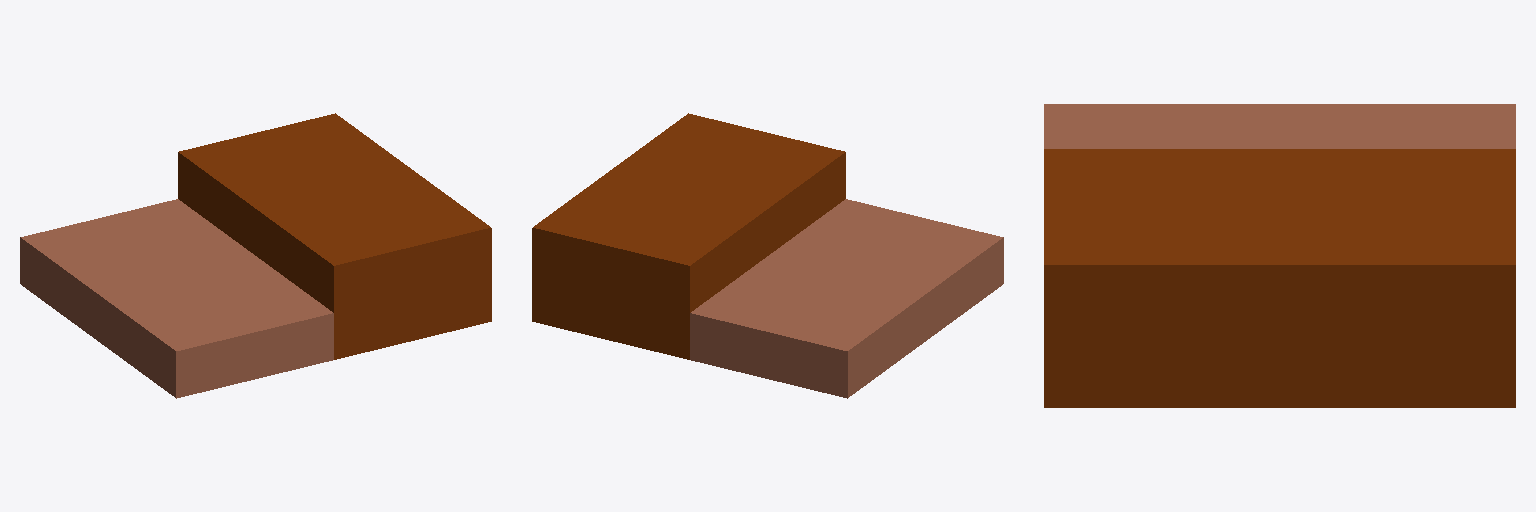
The robot description file, URDF, robot "stair":
<?xml version="0.0" ?>
<robot name="stair">
  <link name="baseLink">
    <contact>
      <lateral_friction value="1.0"/>
      <rolling_friction value="0.0"/>
      <contact_cfm value="0.0"/>
      <contact_erp value="1.0"/>
    </contact>
    <inertial>
      <origin rpy="0 0 0" xyz="0.15 0 0.1"/>
       <mass value="1.0"/>
       <inertia ixx="1" ixy="0" ixz="0" iyy="1" iyz="0" izz="1"/>
    </inertial>
    <visual>
      <origin rpy="0 0 0" xyz="0.175 0 0.05"/>
      <geometry>
        <box size="0.35 0.6 0.1"/>
      </geometry>
       <material name="brown">
           <color rgba="0.68 0.45 0.35 1.0"/>
      </material>
    </visual>
    <!--<collision>-->
      <!--<origin rpy="0 0 0" xyz="0.175 0 0.05"/>-->
      <!--<geometry>-->
        <!--<box size="0.35 0.6 0.1"/>-->
      <!--</geometry>-->
    <!--</collision>-->

  </link>
  <joint name="j0" type="fixed">
      <origin rpy="0 0 0" xyz="0.35 0 0."/>
      <axis rpy="0 0 0" xyz="0 0 1"/>
      <parent link="baseLink"/>
      <child link="secondLink"/>
  </joint>
  <link name="secondLink">
    <contact>
      <lateral_friction value="1.0"/>
      <rolling_friction value="0.0"/>
      <contact_cfm value="0.0"/>
      <contact_erp value="1.0"/>
    </contact>
    <inertial>
      <origin rpy="0 0 0" xyz="0.175 0 0.1"/>
       <mass value="1.0"/>
       <inertia ixx="1" ixy="0" ixz="0" iyy="1" iyz="0" izz="1"/>
    </inertial>
    <visual>
      <origin rpy="0 0 0" xyz="0.175 0 0.1"/>
      <geometry>
        <box size="0.35 0.6 0.2"/>
      </geometry>
       <material name="brown2">
           <color rgba="0.545 0.27 0.074 1.0"/>
      </material>
    </visual>
    <!--<collision>-->
      <!--<origin rpy="0 0 0" xyz="0.175 0 0.1"/>-->
      <!--<geometry>-->
        <!--<box size="0.35 0.6 0.2"/>-->
      <!--</geometry>-->
    <!--</collision>-->
  </link>
</robot>

--- Render facts (derived) ---
Views: 3 orthographic renders of the robot side by side, from view 1: azimuth 30°, elevation 25°; view 2: azimuth 150°, elevation 25°; view 3: azimuth 270°, elevation 25°.
Model stair with 2 links and 1 joints (1 fixed), rooted at baseLink, posed all joints at 0.
Links seen in each view (by area): view 1: secondLink, baseLink; view 2: secondLink, baseLink; view 3: secondLink, baseLink.
Boxes of the visible links, <box> form: secondLink: <box>178,113,491,359</box>; baseLink: <box>20,199,333,398</box>; secondLink: <box>532,113,845,359</box>; baseLink: <box>690,199,1003,398</box>; secondLink: <box>1044,149,1515,407</box>; baseLink: <box>1044,104,1515,148</box>.
Size in the robot's own frame: 0.7 by 0.6 by 0.2 metres.
Geometry: primitives only (box / cylinder / sphere), no mesh files.